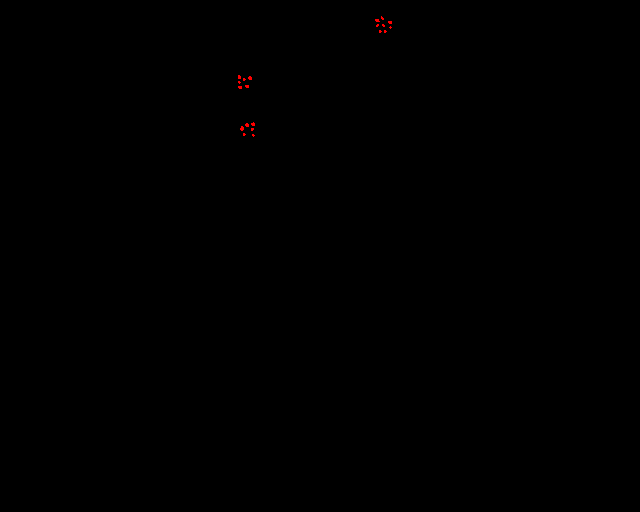Target: (240, 126, 244, 131), (248, 76, 252, 80), (251, 122, 255, 126), (245, 123, 249, 127), (375, 19, 380, 22), (381, 16, 384, 20), (388, 21, 392, 24), (238, 75, 241, 79), (245, 85, 249, 88), (238, 86, 242, 89), (376, 24, 379, 27), (382, 24, 385, 27), (389, 26, 392, 29), (379, 30, 382, 33), (384, 30, 387, 33), (243, 78, 246, 81), (238, 81, 241, 84), (251, 128, 254, 131), (243, 133, 246, 136), (252, 134, 255, 137)
